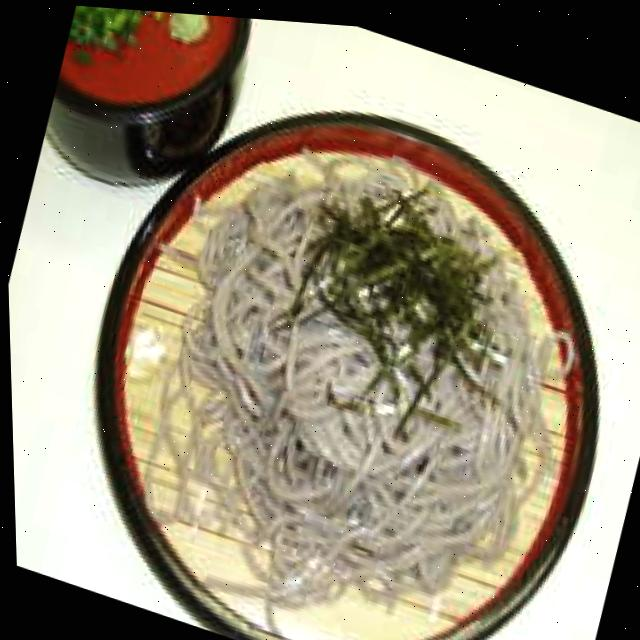面条主食: (10, 1, 640, 640)
